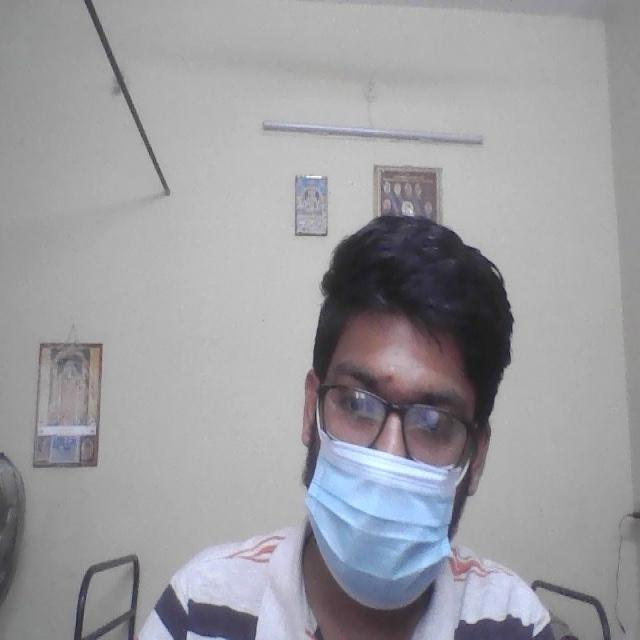Focused: (299, 322, 486, 600)
